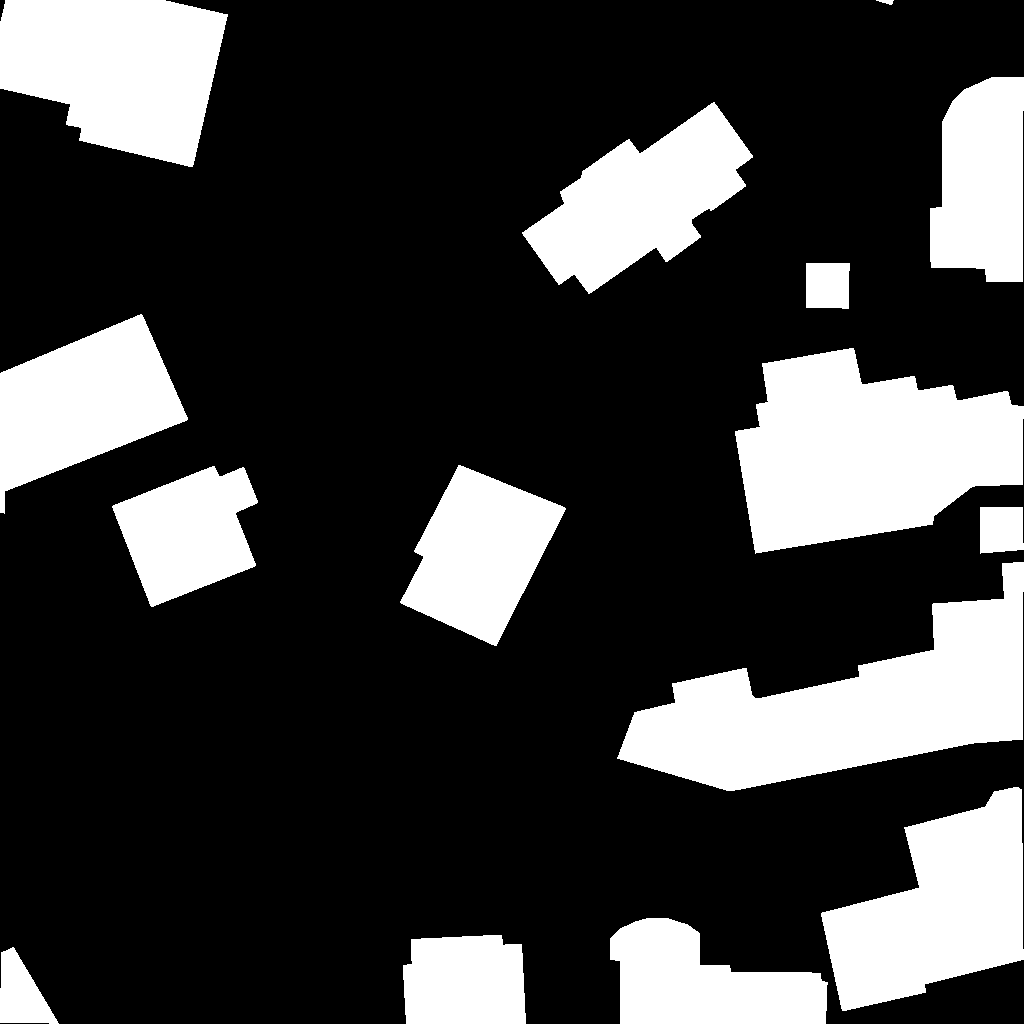building: (617, 562, 1024, 792), (735, 348, 1024, 554), (821, 787, 1024, 1012), (522, 102, 754, 295), (0, 0, 229, 168), (0, 314, 189, 514), (400, 465, 567, 647), (610, 918, 828, 1024), (112, 466, 259, 608), (930, 77, 1024, 282), (403, 935, 527, 1024), (0, 946, 60, 1024), (806, 263, 850, 309), (875, 0, 895, 6)
